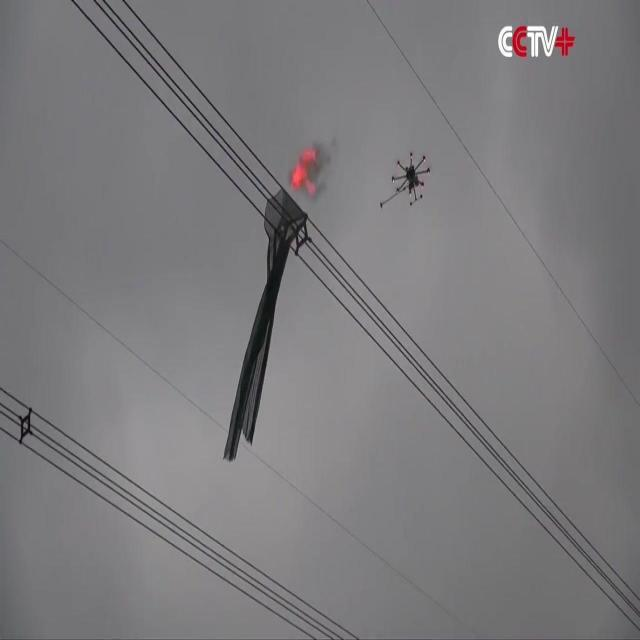UAV: (380, 152, 430, 209)
